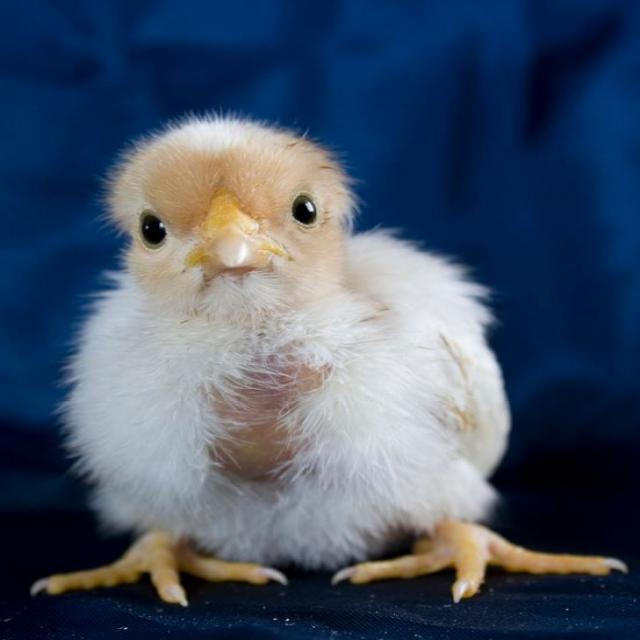poussin: (58, 115, 622, 605)
